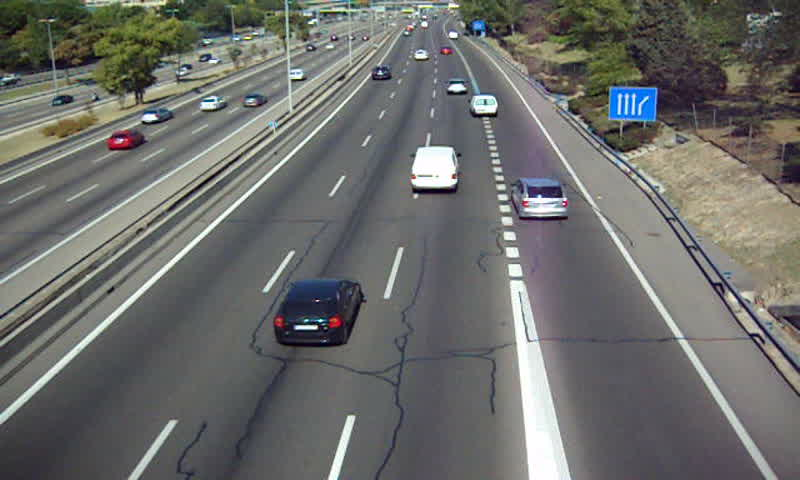car: (275, 278, 362, 346), (512, 178, 569, 218), (445, 79, 469, 97), (371, 65, 391, 81), (411, 48, 430, 60)
van: (411, 147, 458, 191), (469, 95, 498, 115)
